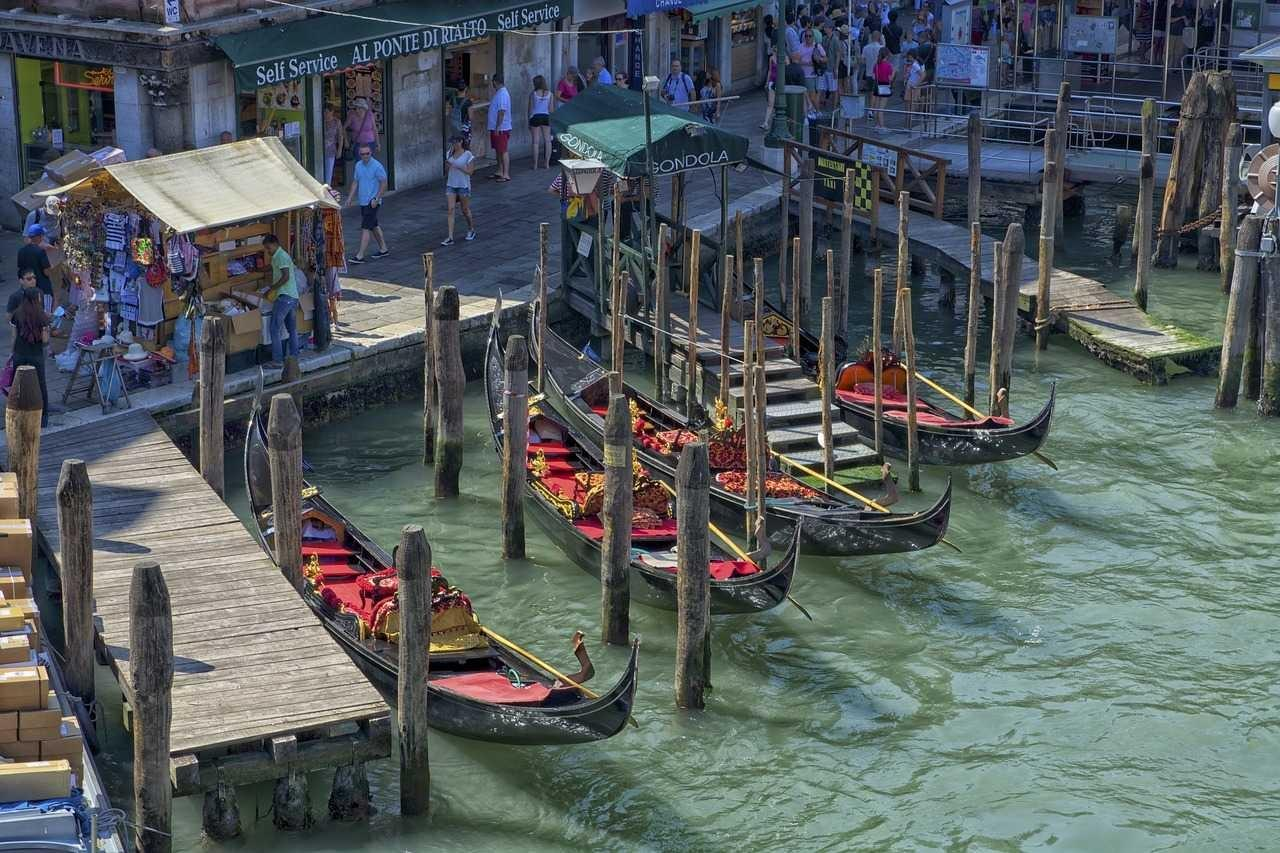kayak: (242, 392, 639, 745), (531, 327, 951, 557), (500, 378, 806, 617), (621, 294, 825, 404), (834, 371, 1058, 466), (1233, 35, 1280, 139)
